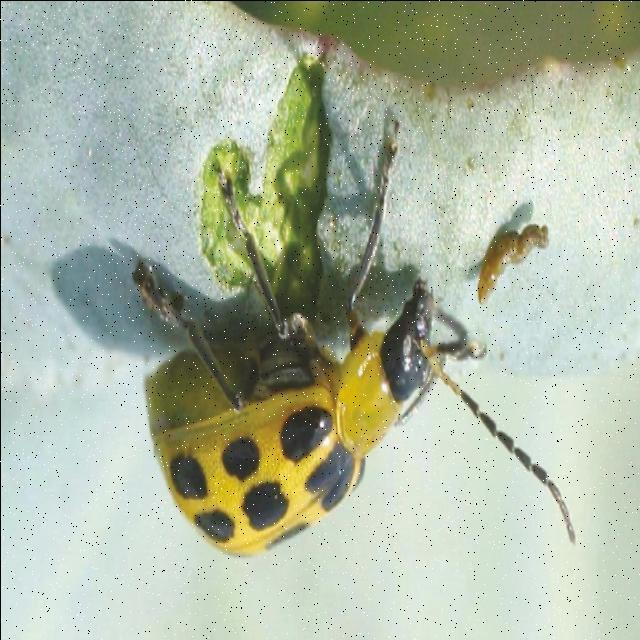gusano_verde: (130, 119, 576, 556)
